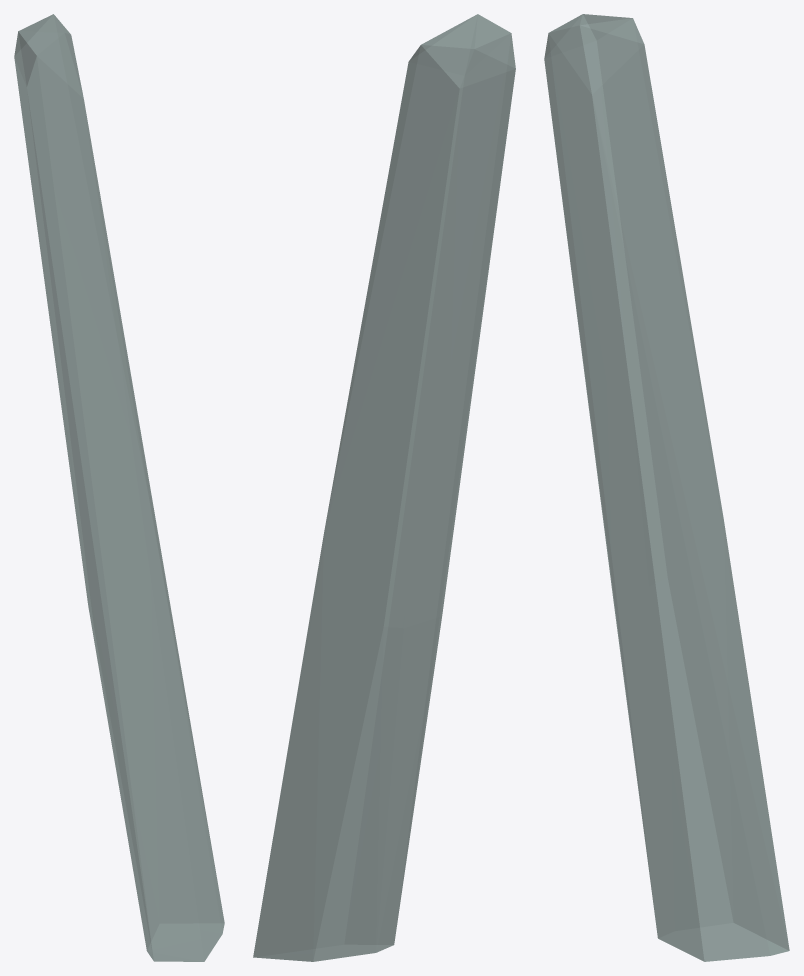
3 renders of one model, left to right at view 1: azimuth 30°, elevation 25°; view 2: azimuth 150°, elevation 25°; view 3: azimuth 330°, elevation 25°, orthographic. The views are drawn at different scales.
Visible parts, largest first — view 1: Shape_IndexedFaceSet.010_Shape_IndexedFaceSet.6417; view 2: Shape_IndexedFaceSet.010_Shape_IndexedFaceSet.6417; view 3: Shape_IndexedFaceSet.010_Shape_IndexedFaceSet.6417.
Part boxes in pixels (bbox=[...]): Shape_IndexedFaceSet.010_Shape_IndexedFaceSet.6417: bbox=[14, 14, 224, 961]; Shape_IndexedFaceSet.010_Shape_IndexedFaceSet.6417: bbox=[253, 14, 515, 961]; Shape_IndexedFaceSet.010_Shape_IndexedFaceSet.6417: bbox=[544, 14, 789, 961].
Size of the model in its own units: 0.2712 by 1.09 by 0.0774.
